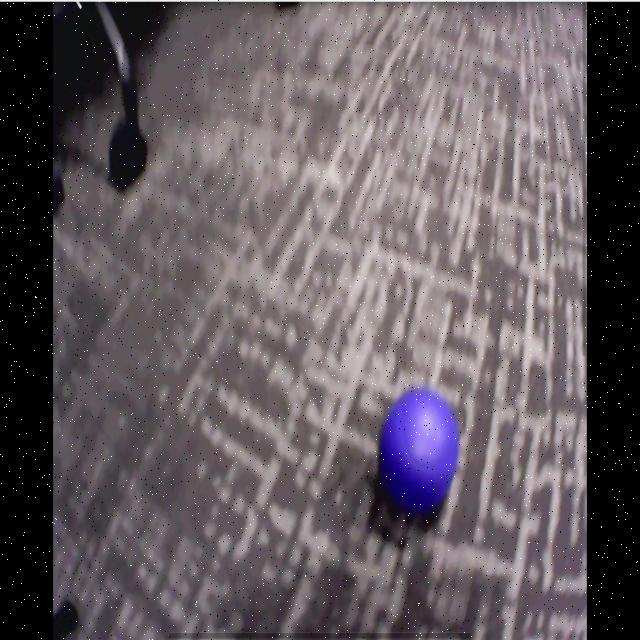ball: (380, 387, 456, 508)
